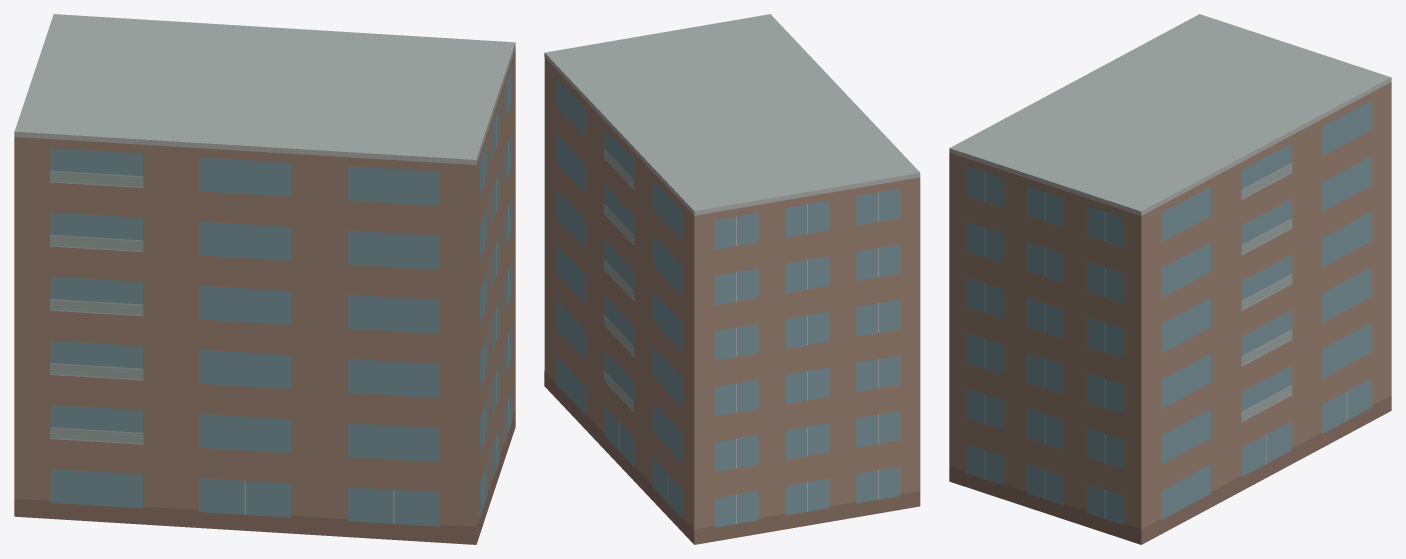
Rendered from survey-upis-33011939.glb.
3 views of the same model, side by side, from view 1: azimuth 30°, elevation 25°; view 2: azimuth 150°, elevation 25°; view 3: azimuth 270°, elevation 25° (orthographic). The views are drawn at different scales.
Parts seen in each view (by area): view 1: survey-upis-33011939.tmp; view 2: survey-upis-33011939.tmp; view 3: survey-upis-33011939.tmp.
Part boxes in pixels (x1,y1,x2,y2): survey-upis-33011939.tmp: (14,14,515,544); survey-upis-33011939.tmp: (544,14,920,544); survey-upis-33011939.tmp: (949,14,1391,544).
Size of the model in its own units: 23.26 by 18.3 by 22.
